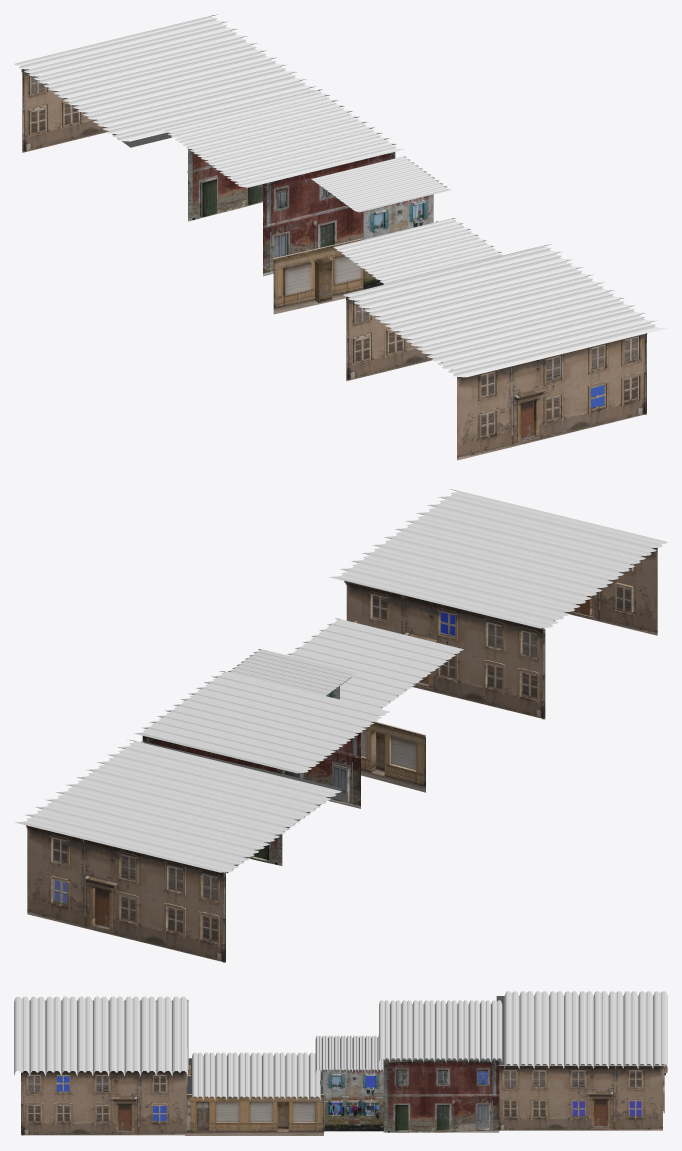
The model's file is Barrio001.fbx.
3 renders of one model, top to bottom at view 1: azimuth 30°, elevation 25°; view 2: azimuth 150°, elevation 25°; view 3: azimuth 270°, elevation 25°, orthographic. The views are drawn at different scales.
Parts seen in each view (by area): view 1: Plane.005, Plane.009, 224108786_498606067899207_3879247058815885501_n.004, Plane.008, TexturesCom_BuildingsHouseOld0017_1_M.001, Plane.006, 222098902_991616681675324_6185489060309530850_n.001, Plane.007, 224108786_498606067899207_3879247058815885501_n.001, 224108786_498606067899207_3879247058815885501_n.003, TexturesCom_BuildingsHouseOld0017_1_M.002, 222098902_532163114690804_6680190317355216501_n.002; view 2: Plane.005, Plane.009, 224108786_498606067899207_3879247058815885501_n.003, Plane.008, 224108786_498606067899207_3879247058815885501_n.001, Plane.006, 224108786_498606067899207_3879247058815885501_n.004, 222098902_991616681675324_6185489060309530850_n.001, Plane.007, TexturesCom_BuildingsHouseOld0017_1_M.001, TexturesCom_BuildingsHouseOld0017_1_M.002, Plane.001; view 3: Plane.005, Plane.009, 224108786_498606067899207_3879247058815885501_n.002, 224108786_498606067899207_3879247058815885501_n.005, TexturesCom_BuildingsHouseOld0017_1_M, Plane.008, Plane.006, 222098902_991616681675324_6185489060309530850_n, 222098902_532163114690804_6680190317355216501_n.001, Plane.007, Plane, Plane.001.
Part boxes in pixels (left/top/right/bottom): Plane.005: left=343, top=244, right=666, bottom=377; Plane.009: left=14, top=14, right=326, bottom=141; 224108786_498606067899207_3879247058815885501_n.004: left=457, top=333, right=646, bottom=460; Plane.008: left=160, top=89, right=404, bottom=187; TexturesCom_BuildingsHouseOld0017_1_M.001: left=263, top=152, right=395, bottom=276; Plane.006: left=333, top=218, right=502, bottom=284; 222098902_991616681675324_6185489060309530850_n.001: left=273, top=238, right=363, bottom=314; Plane.007: left=311, top=156, right=451, bottom=212; 224108786_498606067899207_3879247058815885501_n.001: left=346, top=247, right=534, bottom=381; 224108786_498606067899207_3879247058815885501_n.003: left=21, top=69, right=107, bottom=152; TexturesCom_BuildingsHouseOld0017_1_M.002: left=187, top=148, right=262, bottom=221; 222098902_532163114690804_6680190317355216501_n.002: left=363, top=194, right=433, bottom=289; Plane.005: left=329, top=489, right=667, bottom=628; Plane.009: left=14, top=739, right=341, bottom=872; 224108786_498606067899207_3879247058815885501_n.003: left=26, top=825, right=225, bottom=962; Plane.008: left=134, top=671, right=389, bottom=773; 224108786_498606067899207_3879247058815885501_n.001: left=345, top=581, right=545, bottom=719; Plane.006: left=287, top=618, right=463, bottom=709; 224108786_498606067899207_3879247058815885501_n.004: left=565, top=547, right=657, bottom=635; 222098902_991616681675324_6185489060309530850_n.001: left=361, top=721, right=425, bottom=792; Plane.007: left=227, top=649, right=357, bottom=695; TexturesCom_BuildingsHouseOld0017_1_M.001: left=282, top=732, right=361, bottom=808; TexturesCom_BuildingsHouseOld0017_1_M.002: left=142, top=736, right=282, bottom=865; Plane.001: left=143, top=742, right=342, bottom=873; Plane.005: left=14, top=996, right=187, bottom=1076; Plane.009: left=504, top=991, right=667, bottom=1068; 224108786_498606067899207_3879247058815885501_n.002: left=498, top=1065, right=663, bottom=1130; 224108786_498606067899207_3879247058815885501_n.005: left=21, top=1070, right=188, bottom=1135; TexturesCom_BuildingsHouseOld0017_1_M: left=383, top=1060, right=499, bottom=1132; Plane.008: left=379, top=1000, right=502, bottom=1062; Plane.006: left=192, top=1052, right=320, bottom=1099; 222098902_991616681675324_6185489060309530850_n: left=185, top=1094, right=323, bottom=1135; 222098902_532163114690804_6680190317355216501_n.001: left=322, top=1069, right=383, bottom=1131; Plane.007: left=315, top=1035, right=383, bottom=1072; Plane: left=29, top=1000, right=188, bottom=1069; Plane.001: left=496, top=996, right=663, bottom=1065.
Bounding box in the file's own units: 24.7 × 10.85 × 82.69.
20 materials, 4 textured.
